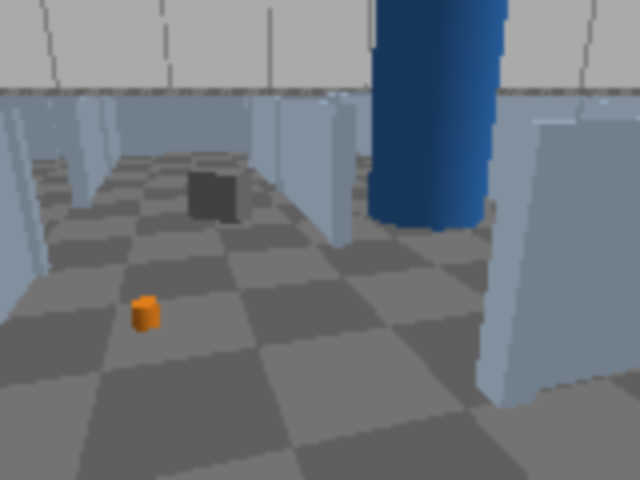obstacle: (186, 167, 253, 224)
puck: (130, 298, 160, 330)
